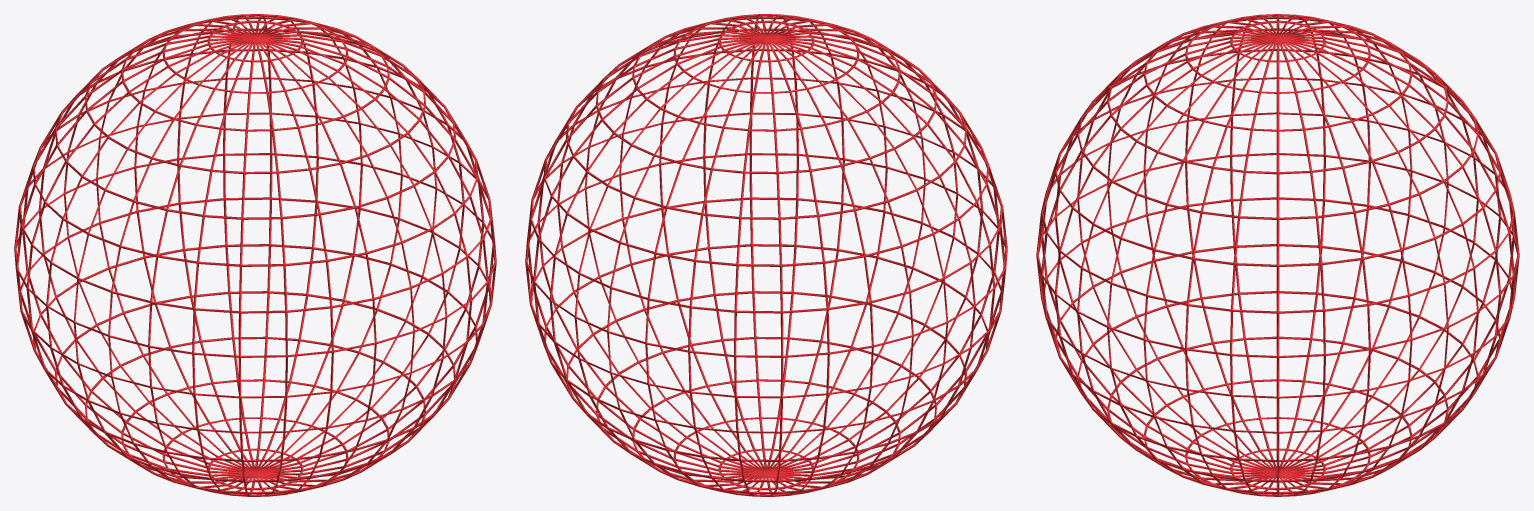
File: redORB_C3.glb
3 views of the same model, side by side, from view 1: azimuth 30°, elevation 25°; view 2: azimuth 150°, elevation 25°; view 3: azimuth 270°, elevation 25° (orthographic).
Parts seen in each view (by area): view 1: orb1_3; view 2: orb1_3; view 3: orb1_3.
Boxes of the visible parts, left/top/right/bottom form: orb1_3: left=14, top=14, right=496, bottom=496; orb1_3: left=525, top=14, right=1007, bottom=496; orb1_3: left=1036, top=14, right=1519, bottom=496.
Bounding box in the file's own units: 2.61 × 2.61 × 2.61.
